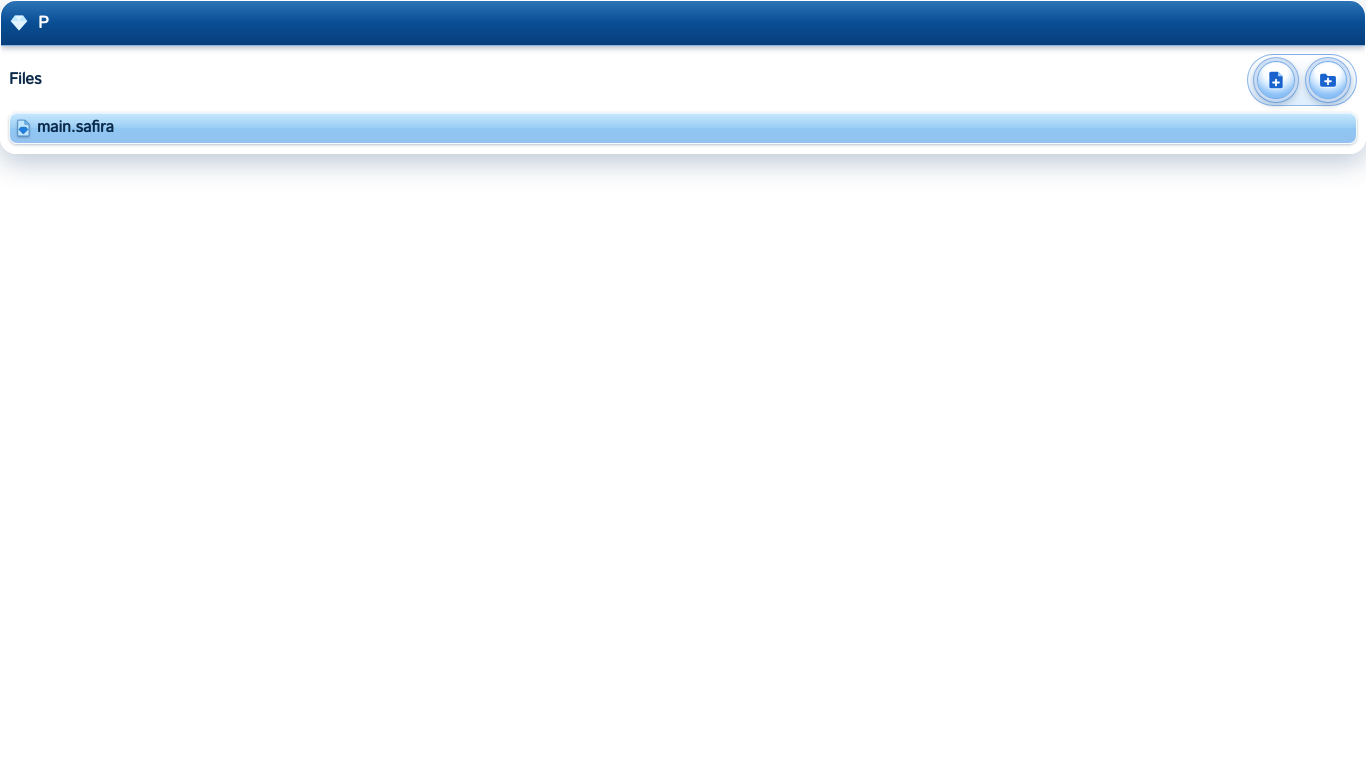
Scenario: FileSidebar › says when there is nowhere to go
The width and height of the screenshot is (1366, 768).
Right-click the button "main.safira" at [75, 128], box [10, 113, 1322, 143]
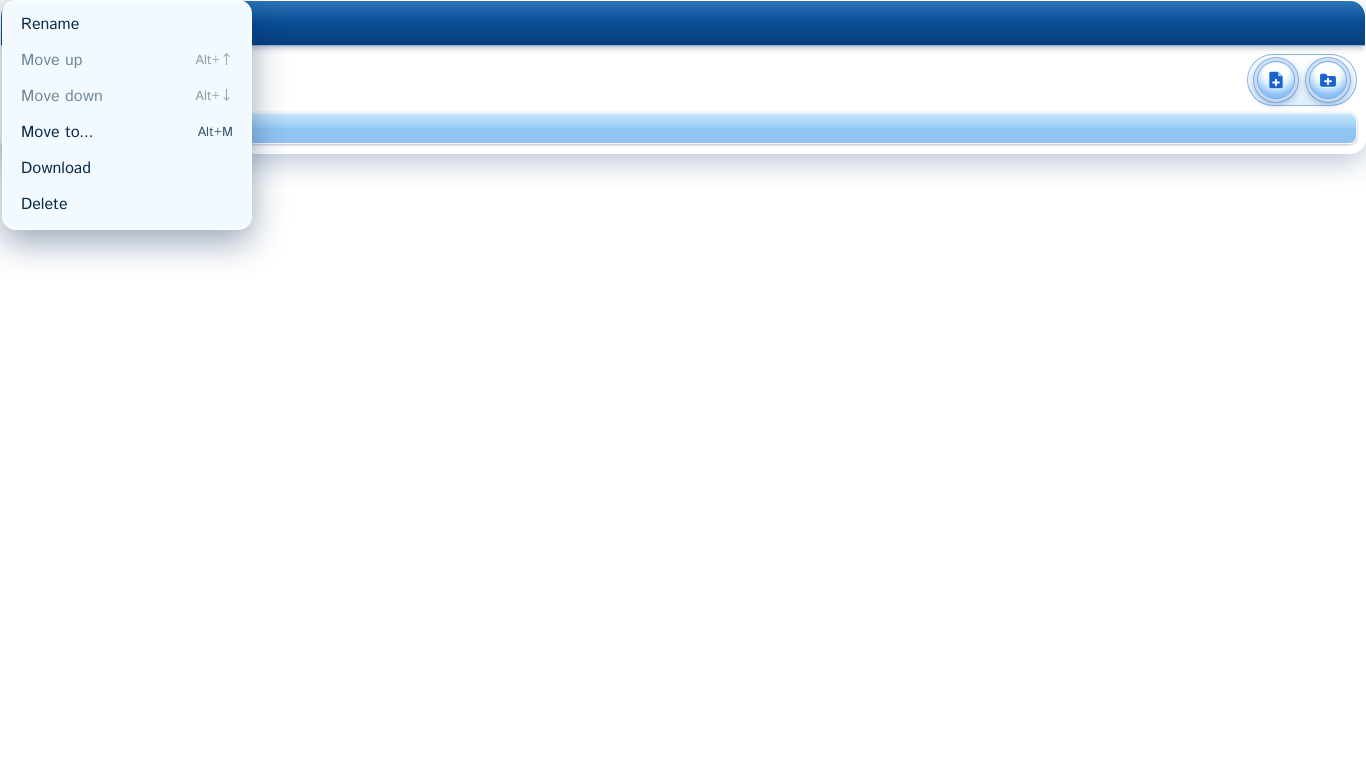
Click the menu item "Move to... Alt+M" at [57, 132], box [9, 115, 245, 151]
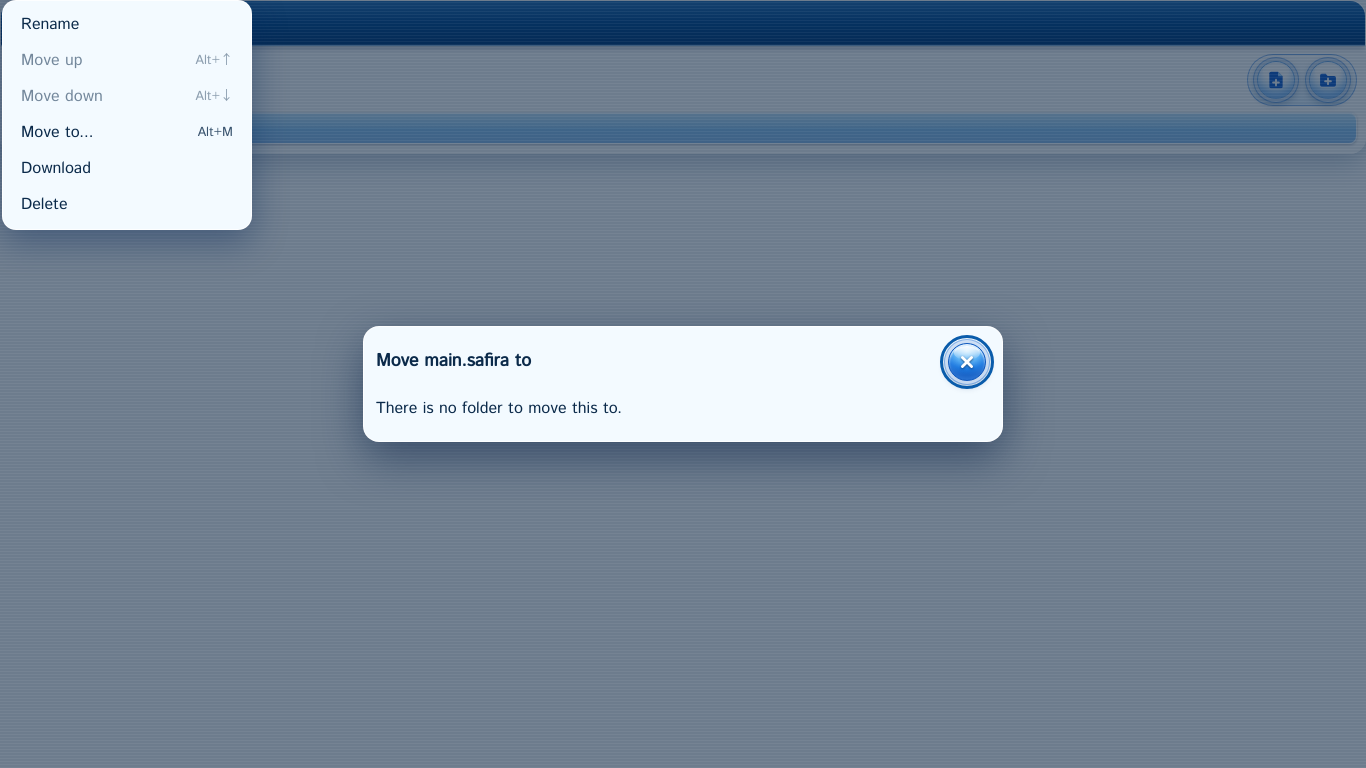
Expected: the text "There is no folder to move this to." is shown, [376, 397, 622, 420]
